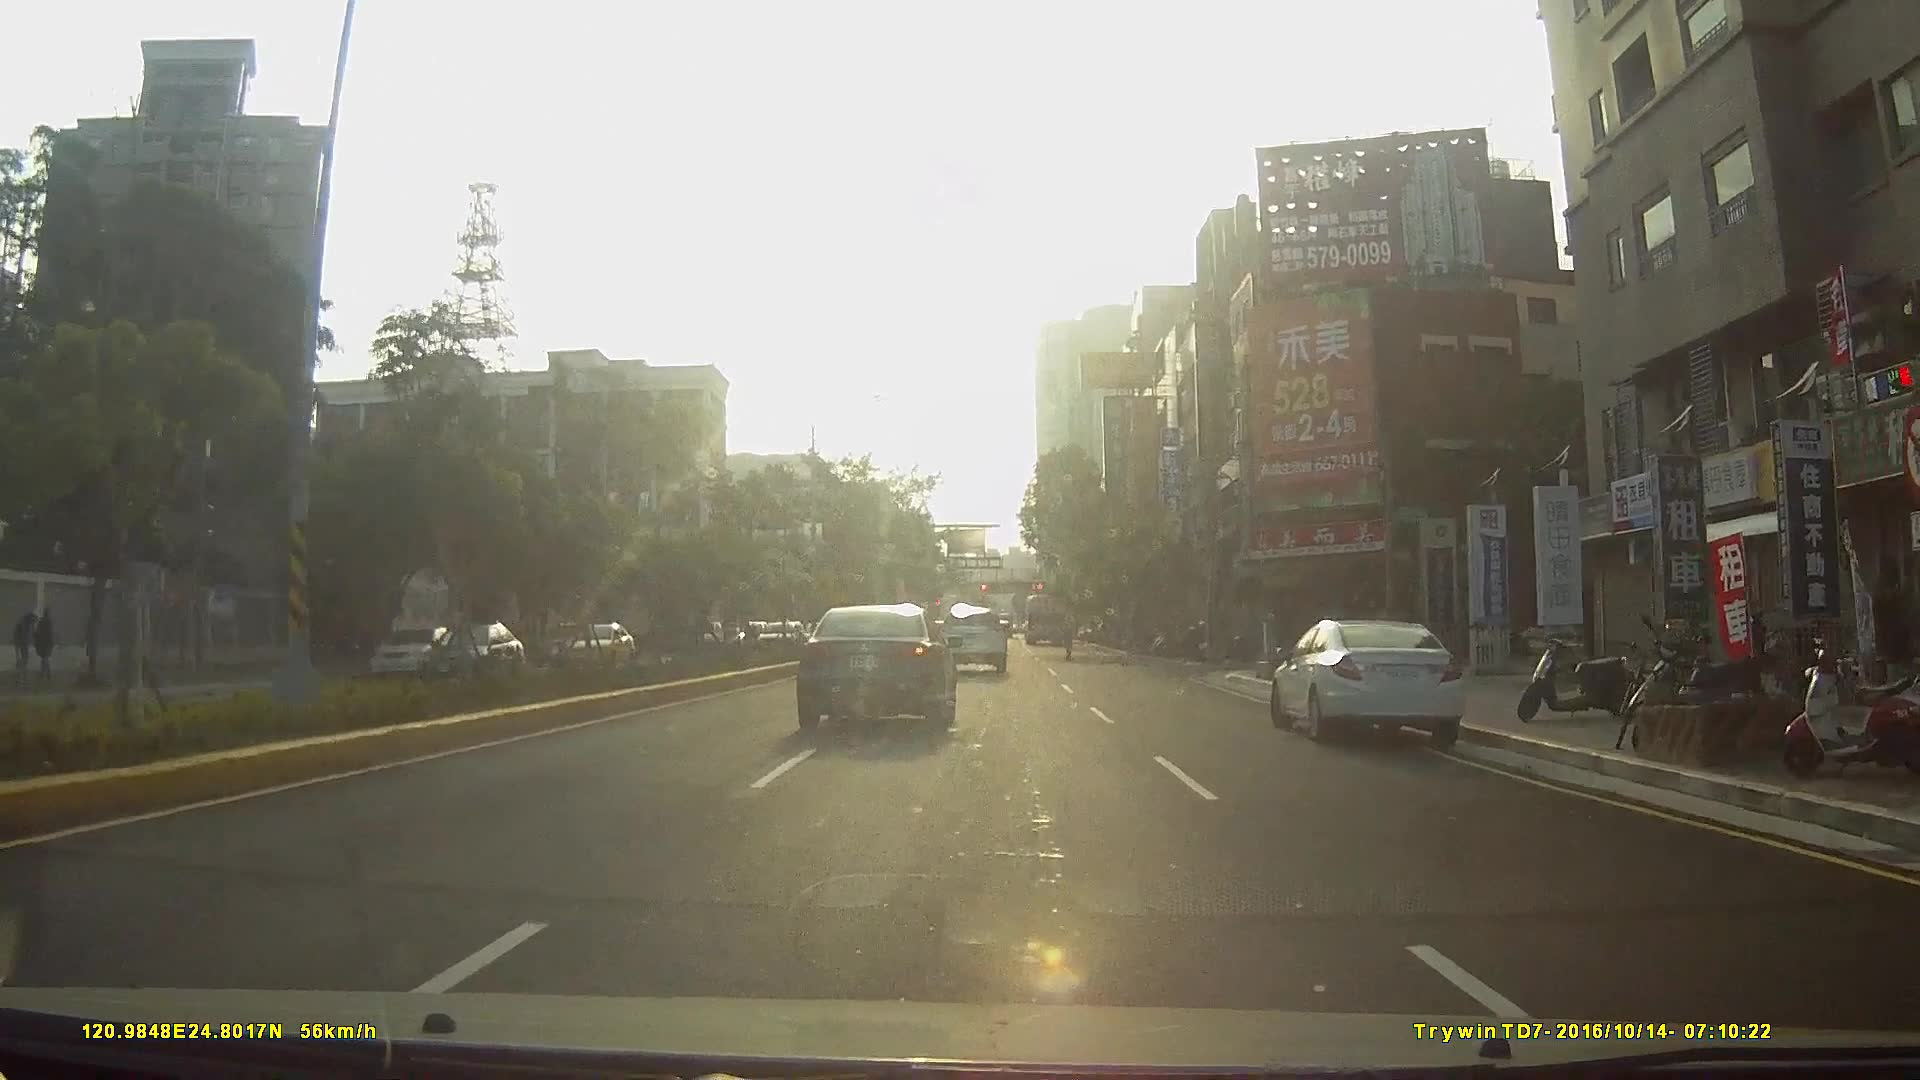pedestrian: (34, 607, 56, 679), (13, 612, 35, 670)
vehicle: (1272, 615, 1476, 748), (792, 599, 957, 730), (406, 615, 532, 696), (358, 623, 453, 679), (933, 603, 1006, 675), (556, 621, 638, 671), (442, 622, 516, 671), (1020, 590, 1065, 647), (750, 619, 801, 657)
